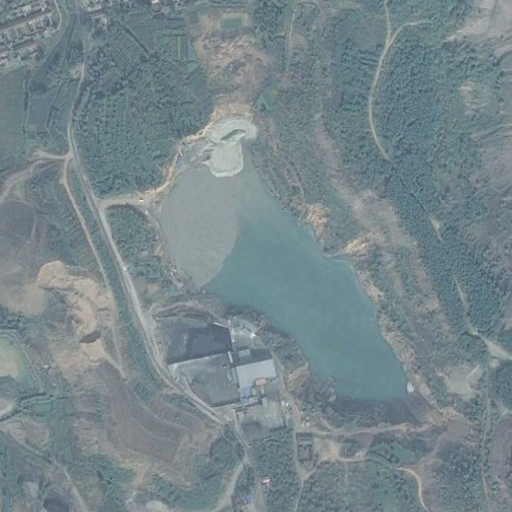tp: (139, 113, 411, 413)
